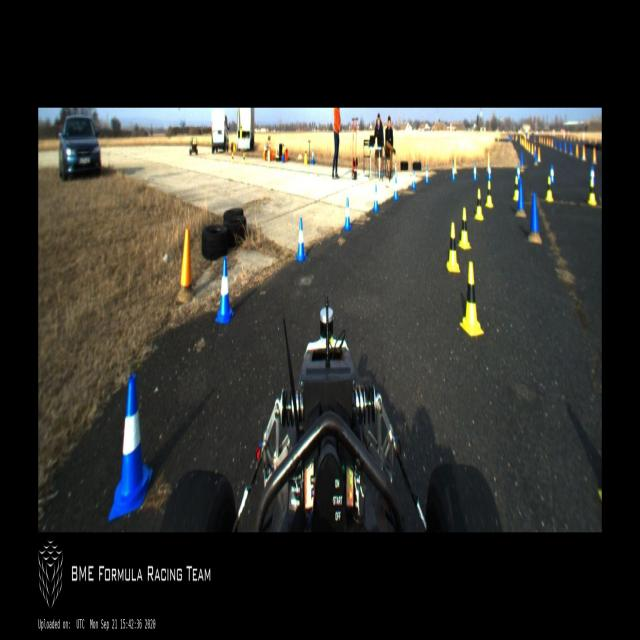blue_cone: (108, 375, 153, 523), (215, 258, 234, 324), (295, 218, 307, 260), (343, 197, 351, 231), (373, 185, 379, 212), (589, 164, 596, 184), (393, 177, 399, 200), (411, 169, 416, 189), (550, 163, 555, 183), (487, 165, 492, 180), (425, 166, 429, 183), (451, 163, 455, 180), (473, 163, 477, 180), (516, 163, 520, 180)
unknown_cone: (176, 228, 195, 302), (528, 191, 542, 244), (516, 177, 526, 217)
yellow_cone: (459, 262, 484, 336), (446, 222, 460, 272), (458, 208, 472, 250), (474, 189, 484, 220), (587, 180, 597, 205), (486, 180, 494, 208), (546, 176, 554, 202), (513, 177, 520, 201)
